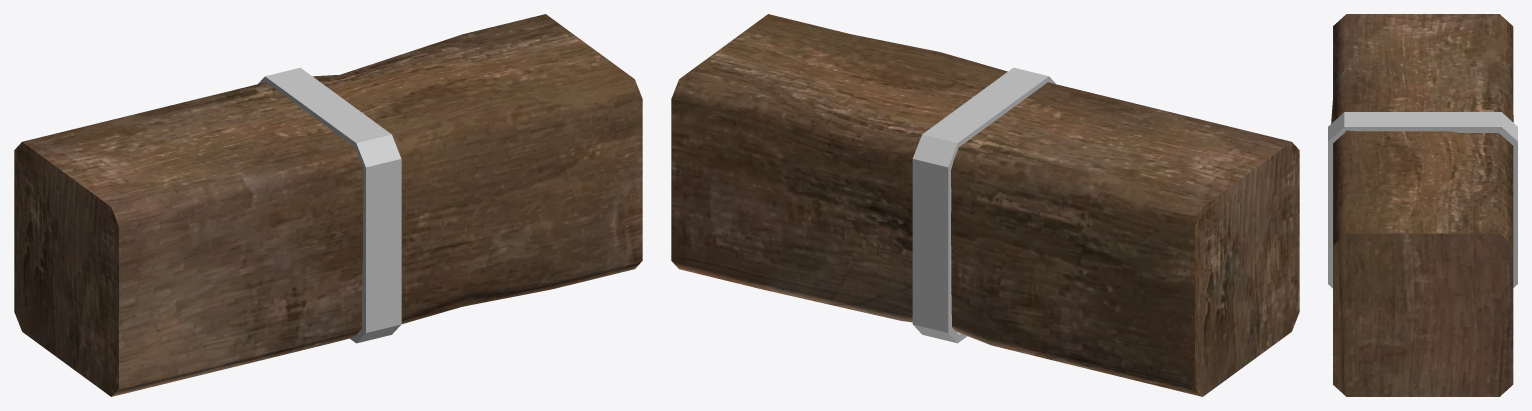
3 views of the same model, side by side, from view 1: azimuth 30°, elevation 25°; view 2: azimuth 150°, elevation 25°; view 3: azimuth 270°, elevation 25° (orthographic). The views are drawn at different scales.
Visible parts, largest first — view 1: SM_BB_T3_Extended_Beam_Thick_Med_Horizontal_LOD0; view 2: SM_BB_T3_Extended_Beam_Thick_Med_Horizontal_LOD0; view 3: SM_BB_T3_Extended_Beam_Thick_Med_Horizontal_LOD0.
Boxes of the visible parts, x1,y1,x2,y2 form: SM_BB_T3_Extended_Beam_Thick_Med_Horizontal_LOD0: [14, 14, 642, 396]; SM_BB_T3_Extended_Beam_Thick_Med_Horizontal_LOD0: [671, 14, 1299, 396]; SM_BB_T3_Extended_Beam_Thick_Med_Horizontal_LOD0: [1328, 14, 1517, 396].
Bounding box in the file's own units: 1.5 × 0.5477 × 0.5477.
